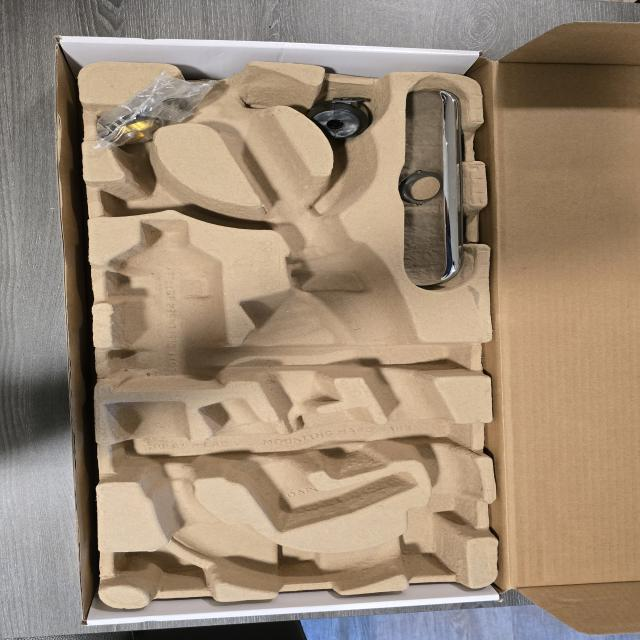1m: (105, 65, 484, 590)
2m: (200, 400, 416, 533)
3m: (111, 220, 223, 389)
4: (396, 88, 461, 287)
5: (309, 98, 372, 142)
6: (95, 73, 220, 147)
7m: (101, 156, 226, 218)
